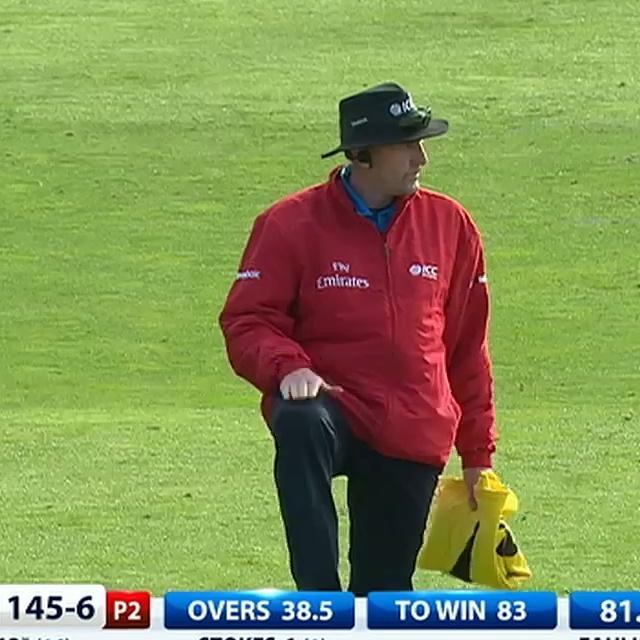umpire: (198, 56, 542, 596)
